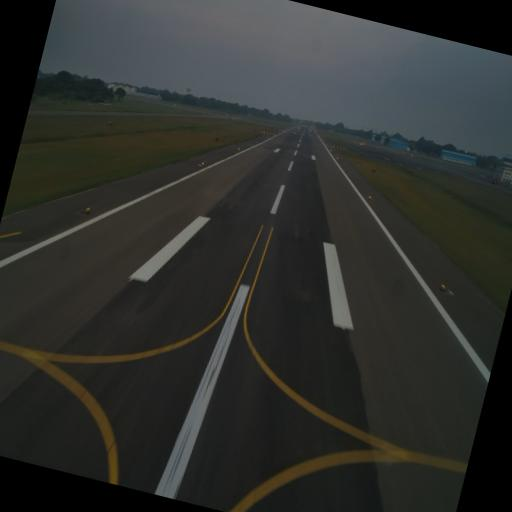on: (84, 202, 94, 214), (439, 282, 448, 295), (367, 192, 373, 202), (200, 160, 206, 166)
